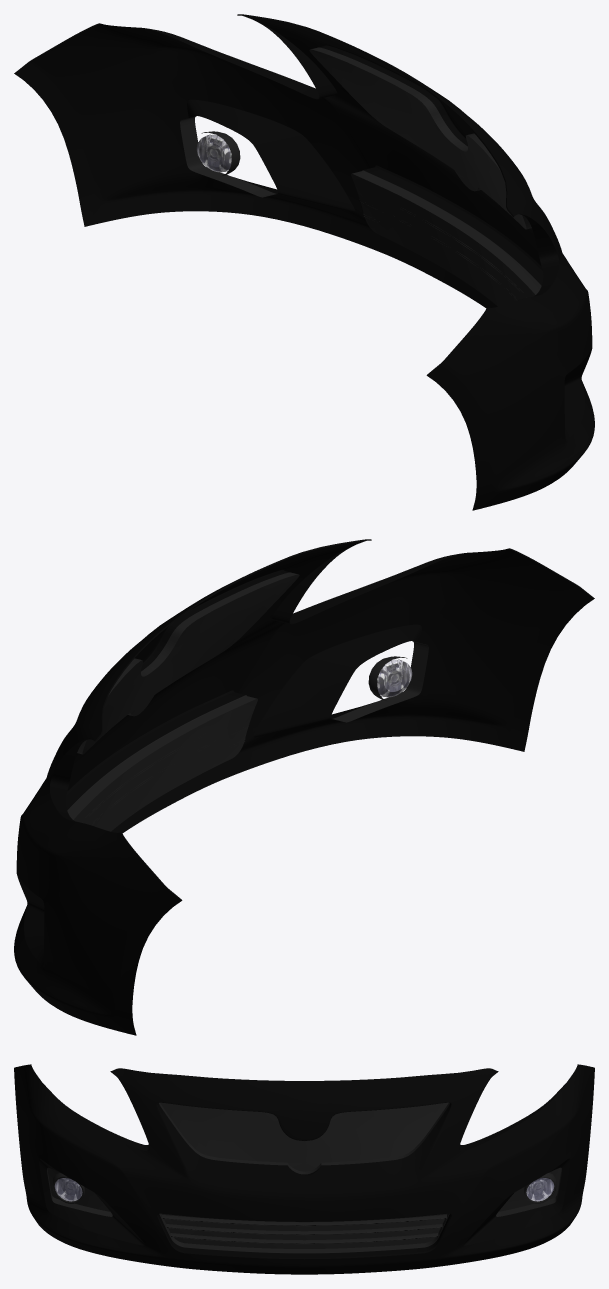
The picture shows the model from 3 angles, top to bottom: view 1: azimuth 30°, elevation 25°; view 2: azimuth 150°, elevation 25°; view 3: azimuth 270°, elevation 25°; orthographic projection. The views are drawn at different scales.
Visible parts, largest first — view 1: Y212_021G_C_Y212_021G_C_5_DaS, Y212_021G_C_6_D_Y212_021G_C, Y212_021G_C_Y212_021G_C_5_DaS_E, Y212_021G_C_Y212_021G_C_1_D, Y212_021G_C_Y212_021G_C_2_N; view 2: Y212_021G_C_Y212_021G_C_5_DaS, Y212_021G_C_6_D_Y212_021G_C, Y212_021G_C_Y212_021G_C_5_DaS_E, Y212_021G_C_Y212_021G_C_1_D, Y212_021G_C_Y212_021G_C_3_N; view 3: Y212_021G_C_Y212_021G_C_5_DaS, Y212_021G_C_6_D_Y212_021G_C, Y212_021G_C_Y212_021G_C_1_D, Y212_021G_C_Y212_021G_C_5_DaS_E, Y212_021G_C_Y212_021G_C_2_N, Y212_021G_C_Y212_021G_C_3_N, Y212_021G_C_Y212_021G_C_4_DTaSI, Y212_021G_C_Y212_021G_C_8_DTaSI.
Part boxes in pixels (box(x1,y1,x2,y2)): Y212_021G_C_Y212_021G_C_5_DaS: box(15, 16, 594, 510); Y212_021G_C_6_D_Y212_021G_C: box(309, 47, 535, 306); Y212_021G_C_Y212_021G_C_5_DaS_E: box(14, 14, 592, 440); Y212_021G_C_Y212_021G_C_1_D: box(180, 116, 541, 299); Y212_021G_C_Y212_021G_C_2_N: box(196, 134, 231, 172); Y212_021G_C_Y212_021G_C_5_DaS: box(14, 541, 593, 1035); Y212_021G_C_6_D_Y212_021G_C: box(73, 572, 299, 831); Y212_021G_C_Y212_021G_C_5_DaS_E: box(16, 539, 594, 965); Y212_021G_C_Y212_021G_C_1_D: box(67, 641, 428, 824); Y212_021G_C_Y212_021G_C_3_N: box(377, 659, 412, 697); Y212_021G_C_Y212_021G_C_5_DaS: box(14, 1064, 594, 1274); Y212_021G_C_6_D_Y212_021G_C: box(159, 1102, 449, 1248); Y212_021G_C_Y212_021G_C_1_D: box(47, 1167, 561, 1253); Y212_021G_C_Y212_021G_C_5_DaS_E: box(38, 1071, 570, 1259); Y212_021G_C_Y212_021G_C_2_N: box(526, 1178, 554, 1201); Y212_021G_C_Y212_021G_C_3_N: box(54, 1178, 82, 1201); Y212_021G_C_Y212_021G_C_4_DTaSI: box(55, 1178, 82, 1201); Y212_021G_C_Y212_021G_C_8_DTaSI: box(526, 1178, 553, 1201).
Bounding box in the file's own units: 81.89 × 66.61 × 206.
